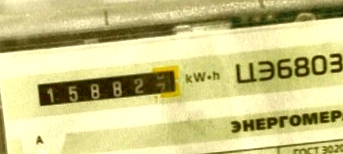1: (45, 86, 57, 105)
2: (133, 76, 145, 94)
5: (66, 84, 79, 102)
7: (155, 80, 167, 94)
8: (89, 81, 101, 99), (112, 80, 123, 97)
screen: (30, 62, 188, 112)
